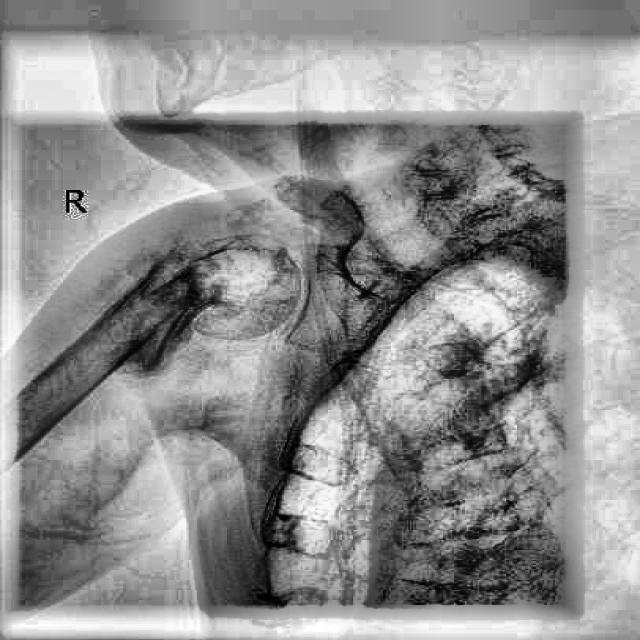shoulder fracture: (77, 247, 249, 387)
